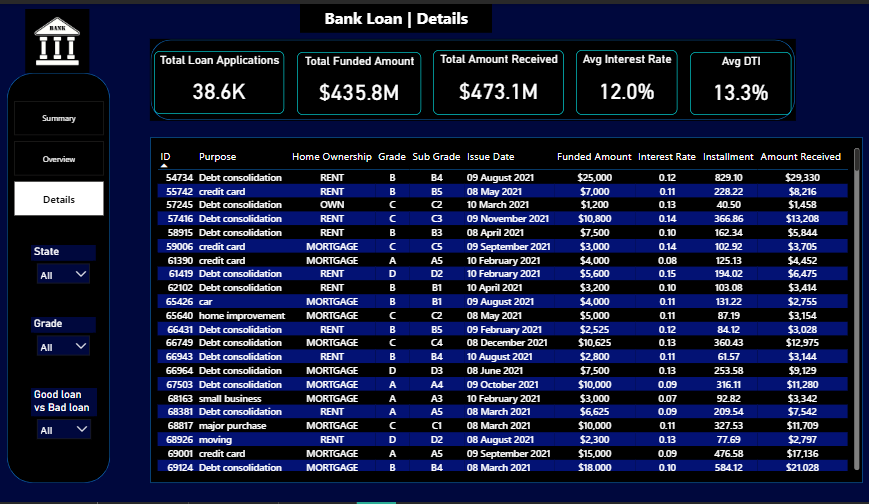

Layout of this report page (visuals, bound fields, positions):
{"tool":"powerbi","page":{"name":"Details","canvas":[1450,830],"ordinal":2},"visuals":[{"type":"textbox","box":[500.3,0,320.3,48.2],"z":0},{"type":"shape","box":[250,58.8,1075.7,136.1],"z":0,"group":"g1"},{"type":"group","id":"g1","title":"Group 1","box":[250,58.8,1075.1,135.6],"z":1000},{"type":"card","title":"Total Loan Applications","fields":{"Values":["financial_loan.Total Loan Applications"]},"box":[257.1,78.6,216.9,104.9],"z":2000,"group":"g1"},{"type":"shape","box":[11.7,115,171.7,683.3],"z":2000},{"type":"card","title":"Total Funded Amount","fields":{"Values":["financial_loan.Total Funded Amount"]},"box":[494.5,80.1,206.9,104.9],"z":3000,"group":"g1"},{"type":"slicer","title":"State","fields":{"Values":["financial_loan.address_state"]},"box":[51.7,401.7,108.3,71.7],"z":3000},{"type":"card","title":"Total Amount Received","fields":{"Values":["financial_loan.Total Amount Received"]},"box":[722,77.2,218.3,107.7],"z":4000,"group":"g1"},{"type":"slicer","title":"Grade","fields":{"Values":["financial_loan.grade"]},"box":[51.7,521.7,108.3,70],"z":4000},{"type":"card","title":"Avg Interest Rate","fields":{"Values":["financial_loan.Average Interest Rate"]},"box":[960.8,77.2,168.7,107.7],"z":5000,"group":"g1"},{"type":"slicer","title":"Good loan vs Bad loan","fields":{"Values":["financial_loan.Good Loans vs Bad Loans"]},"box":[51.7,640,110,98.3],"z":5000},{"type":"card","title":"Avg DTI","fields":{"Values":["financial_loan.Average DTI"]},"box":[1150,80.1,168.7,104.9],"z":6000,"group":"g1"},{"type":"shape","box":[250,222.2,1187.8,576.8],"z":6000},{"type":"tableEx","fields":{"Values":["financial_loan.id","financial_loan.purpose","financial_loan.home_ownership","financial_loan.grade","financial_loan.sub_grade","financial_loan.issue_date","financial_loan.Total Funded Amount","Sum(financial_loan.int_rate)","Sum(financial_loan.installment)","financial_loan.Total Amount Received"]},"box":[256.5,235.3,1181.3,547.3],"z":7000},{"type":"pageNavigator","box":[23.3,161.7,150,191.7],"z":8000},{"type":"image","box":[30.4,2.9,130.1,117.1],"z":8001}]}

Visuals, with their boxes on the page's 1450x830 design canvas (x1, y1, x2, y2). These are canvas units, not pixel positions in the 869x504 screenshot, which may show the page scaled, cropped or inside an application window:
textbox: x1=500, y1=0, x2=821, y2=48
shape: x1=250, y1=59, x2=1326, y2=195
"Group 1" group: x1=250, y1=59, x2=1325, y2=194
"Total Loan Applications" card: x1=257, y1=79, x2=474, y2=184
shape: x1=12, y1=115, x2=183, y2=798
"Total Funded Amount" card: x1=494, y1=80, x2=701, y2=185
"State" slicer: x1=52, y1=402, x2=160, y2=473
"Total Amount Received" card: x1=722, y1=77, x2=940, y2=185
"Grade" slicer: x1=52, y1=522, x2=160, y2=592
"Avg Interest Rate" card: x1=961, y1=77, x2=1130, y2=185
"Good loan vs Bad loan" slicer: x1=52, y1=640, x2=162, y2=738
"Avg DTI" card: x1=1150, y1=80, x2=1319, y2=185
shape: x1=250, y1=222, x2=1438, y2=799
tableEx - financial_loan.id x financial_loan.purpose: x1=256, y1=235, x2=1438, y2=783
pageNavigator: x1=23, y1=162, x2=173, y2=353
image: x1=30, y1=3, x2=160, y2=120
